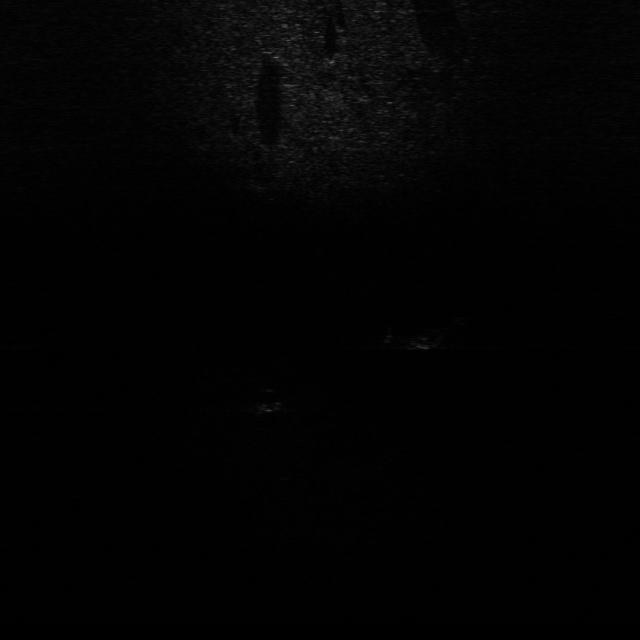ball: (246, 386, 286, 415)
human body: (370, 320, 470, 349)
